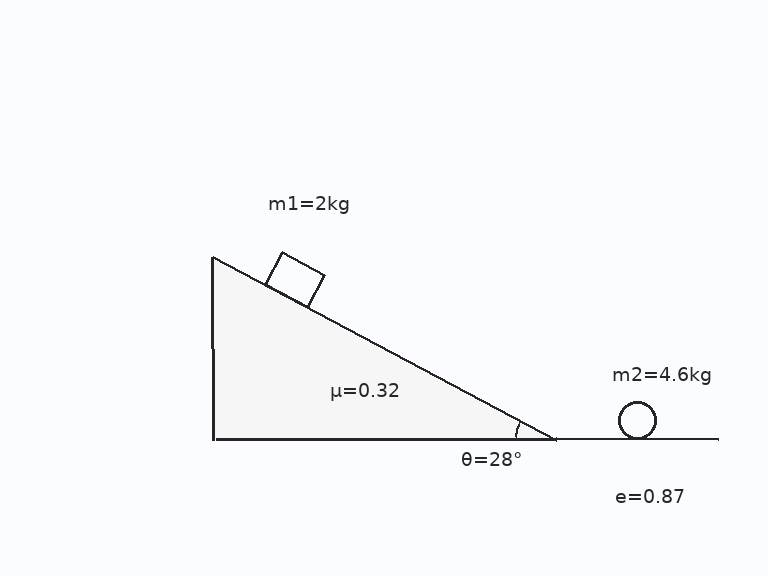ball: (616, 399, 658, 441)
block: (263, 251, 326, 309)
ramp: (211, 255, 558, 441)
